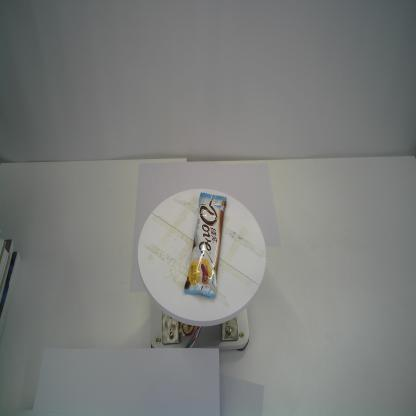Chocolate: (183, 191, 228, 300)
